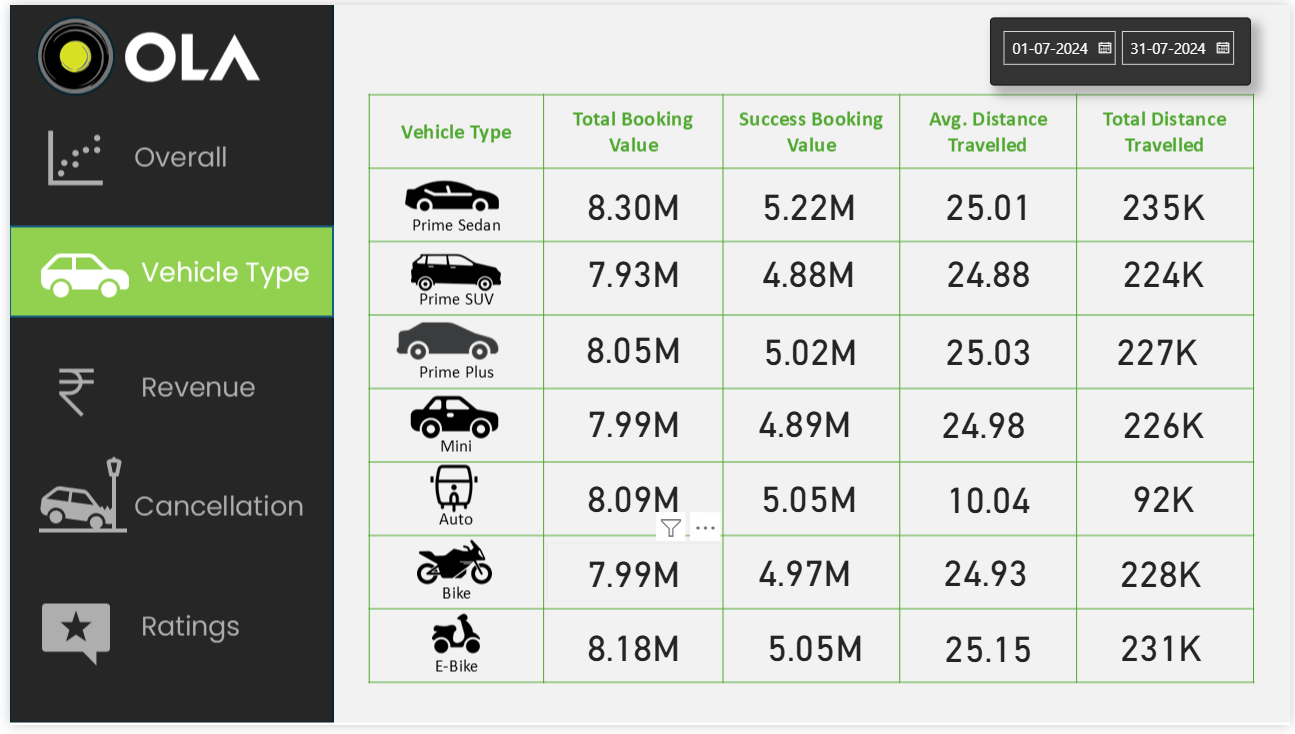

This screenshot's page, from the dashboard's own definition file:
{"tool":"powerbi","page":{"name":"Vehicle Type","canvas":[1280,720],"ordinal":1},"visuals":[{"type":"actionButton","box":[0,220.8,325.7,92.9],"z":0},{"type":"actionButton","box":[0,339,325.7,92.9],"z":1000},{"type":"actionButton","box":[0,445.2,325.7,92.9],"z":2000},{"type":"actionButton","box":[0,575.5,325.7,92.9],"z":3000},{"type":"actionButton","box":[0,106.2,325.7,92.9],"z":4000},{"type":"card","fields":{"Values":["Sum(July.Booking_Value)"]},"box":[536.6,170.4,174.6,57.7],"z":5000},{"type":"card","fields":{"Values":["Sum(July.Booking_Value)"]},"box":[536.6,238,174.6,57.7],"z":6000},{"type":"card","fields":{"Values":["Sum(July.Booking_Value)"]},"box":[536.6,314.1,174.6,57.7],"z":7000},{"type":"card","fields":{"Values":["Sum(July.Booking_Value)"]},"box":[536.6,387.3,174.6,57.7],"z":8000},{"type":"card","fields":{"Values":["Sum(July.Booking_Value)"]},"box":[536.6,462,174.6,57.7],"z":9000},{"type":"card","fields":{"Values":["Sum(July.Booking_Value)"]},"box":[536.6,538,174.6,57.7],"z":10000},{"type":"card","fields":{"Values":["Sum(July.Booking_Value)"]},"box":[536.6,611.3,174.6,57.7],"z":11000},{"type":"card","fields":{"Values":["Sum(July.Booking_Value)"]},"box":[711.3,170.4,174.6,57.7],"z":12000},{"type":"card","fields":{"Values":["Sum(July.Booking_Value)"]},"box":[711.3,238,174.6,57.7],"z":13000},{"type":"card","fields":{"Values":["Sum(July.Booking_Value)"]},"box":[716.9,315.5,164.8,57.7],"z":14000},{"type":"card","fields":{"Values":["Sum(July.Booking_Value)"]},"box":[707,387.3,174.6,57.7],"z":15000},{"type":"card","fields":{"Values":["Sum(July.Booking_Value)"]},"box":[711.3,462,174.6,57.7],"z":16000},{"type":"card","fields":{"Values":["Sum(July.Booking_Value)"]},"box":[707,536.6,174.6,57.7],"z":17000},{"type":"card","fields":{"Values":["Sum(July.Booking_Value)"]},"box":[716.9,611.3,174.6,57.7],"z":18000},{"type":"card","fields":{"Values":["Avg(July.Ride_Distance)"]},"box":[891.5,170.4,174.6,57.7],"z":19000},{"type":"card","fields":{"Values":["Avg(July.Ride_Distance)"]},"box":[891.5,238,174.6,57.7],"z":20000},{"type":"card","fields":{"Values":["Avg(July.Ride_Distance)"]},"box":[891.5,315.5,174.6,57.7],"z":21000},{"type":"card","fields":{"Values":["Avg(July.Ride_Distance)"]},"box":[885.9,388.7,174.6,57.7],"z":22000},{"type":"card","fields":{"Values":["Avg(July.Ride_Distance)"]},"box":[891.5,463.4,174.6,57.7],"z":23000},{"type":"card","fields":{"Values":["Avg(July.Ride_Distance)"]},"box":[891.5,536.6,169,57.7],"z":24000},{"type":"card","fields":{"Values":["Avg(July.Ride_Distance)"]},"box":[891.5,612.7,174.6,57.7],"z":25000},{"type":"card","fields":{"Values":["Sum(July.Ride_Distance)"]},"box":[1066.2,170.4,174.6,57.7],"z":26000},{"type":"card","fields":{"Values":["Sum(July.Ride_Distance)"]},"box":[1066.2,238,174.6,57.7],"z":27000},{"type":"card","fields":{"Values":["Sum(July.Ride_Distance)"]},"box":[1060.6,315.5,174.6,57.7],"z":28000},{"type":"card","fields":{"Values":["Sum(July.Ride_Distance)"]},"box":[1066.2,388.7,174.6,57.7],"z":29000},{"type":"card","fields":{"Values":["Sum(July.Ride_Distance)"]},"box":[1066.2,462,174.6,57.7],"z":30000},{"type":"card","fields":{"Values":["Sum(July.Ride_Distance)"]},"box":[1066.2,538,169,57.7],"z":31000},{"type":"card","fields":{"Values":["Sum(July.Ride_Distance)"]},"box":[1063.4,611.3,174.6,57.7],"z":32000},{"type":"slicer","title":"Date","fields":{"Values":["July.Date"]},"box":[980.3,12.7,260.6,67.6],"z":33000}]}

Visuals, with their boxes on the page's 1280x720 design canvas (x1, y1, x2, y2). These are canvas units, not pixel positions in the 1295x734 screenshot, which may show the page scaled, cropped or inside an application window:
actionButton: pyautogui.locateOnScreen(0, 221, 326, 314)
actionButton: pyautogui.locateOnScreen(0, 339, 326, 432)
actionButton: pyautogui.locateOnScreen(0, 445, 326, 538)
actionButton: pyautogui.locateOnScreen(0, 576, 326, 668)
actionButton: pyautogui.locateOnScreen(0, 106, 326, 199)
card - Sum(July.Booking_Value): pyautogui.locateOnScreen(537, 170, 711, 228)
card - Sum(July.Booking_Value): pyautogui.locateOnScreen(537, 238, 711, 296)
card - Sum(July.Booking_Value): pyautogui.locateOnScreen(537, 314, 711, 372)
card - Sum(July.Booking_Value): pyautogui.locateOnScreen(537, 387, 711, 445)
card - Sum(July.Booking_Value): pyautogui.locateOnScreen(537, 462, 711, 520)
card - Sum(July.Booking_Value): pyautogui.locateOnScreen(537, 538, 711, 596)
card - Sum(July.Booking_Value): pyautogui.locateOnScreen(537, 611, 711, 669)
card - Sum(July.Booking_Value): pyautogui.locateOnScreen(711, 170, 886, 228)
card - Sum(July.Booking_Value): pyautogui.locateOnScreen(711, 238, 886, 296)
card - Sum(July.Booking_Value): pyautogui.locateOnScreen(717, 316, 882, 373)
card - Sum(July.Booking_Value): pyautogui.locateOnScreen(707, 387, 882, 445)
card - Sum(July.Booking_Value): pyautogui.locateOnScreen(711, 462, 886, 520)
card - Sum(July.Booking_Value): pyautogui.locateOnScreen(707, 537, 882, 594)
card - Sum(July.Booking_Value): pyautogui.locateOnScreen(717, 611, 892, 669)
card - Avg(July.Ride_Distance): pyautogui.locateOnScreen(892, 170, 1066, 228)
card - Avg(July.Ride_Distance): pyautogui.locateOnScreen(892, 238, 1066, 296)
card - Avg(July.Ride_Distance): pyautogui.locateOnScreen(892, 316, 1066, 373)
card - Avg(July.Ride_Distance): pyautogui.locateOnScreen(886, 389, 1060, 446)
card - Avg(July.Ride_Distance): pyautogui.locateOnScreen(892, 463, 1066, 521)
card - Avg(July.Ride_Distance): pyautogui.locateOnScreen(892, 537, 1060, 594)
card - Avg(July.Ride_Distance): pyautogui.locateOnScreen(892, 613, 1066, 670)
card - Sum(July.Ride_Distance): pyautogui.locateOnScreen(1066, 170, 1241, 228)
card - Sum(July.Ride_Distance): pyautogui.locateOnScreen(1066, 238, 1241, 296)
card - Sum(July.Ride_Distance): pyautogui.locateOnScreen(1061, 316, 1235, 373)
card - Sum(July.Ride_Distance): pyautogui.locateOnScreen(1066, 389, 1241, 446)
card - Sum(July.Ride_Distance): pyautogui.locateOnScreen(1066, 462, 1241, 520)
card - Sum(July.Ride_Distance): pyautogui.locateOnScreen(1066, 538, 1235, 596)
card - Sum(July.Ride_Distance): pyautogui.locateOnScreen(1063, 611, 1238, 669)
"Date" slicer: pyautogui.locateOnScreen(980, 13, 1241, 80)
